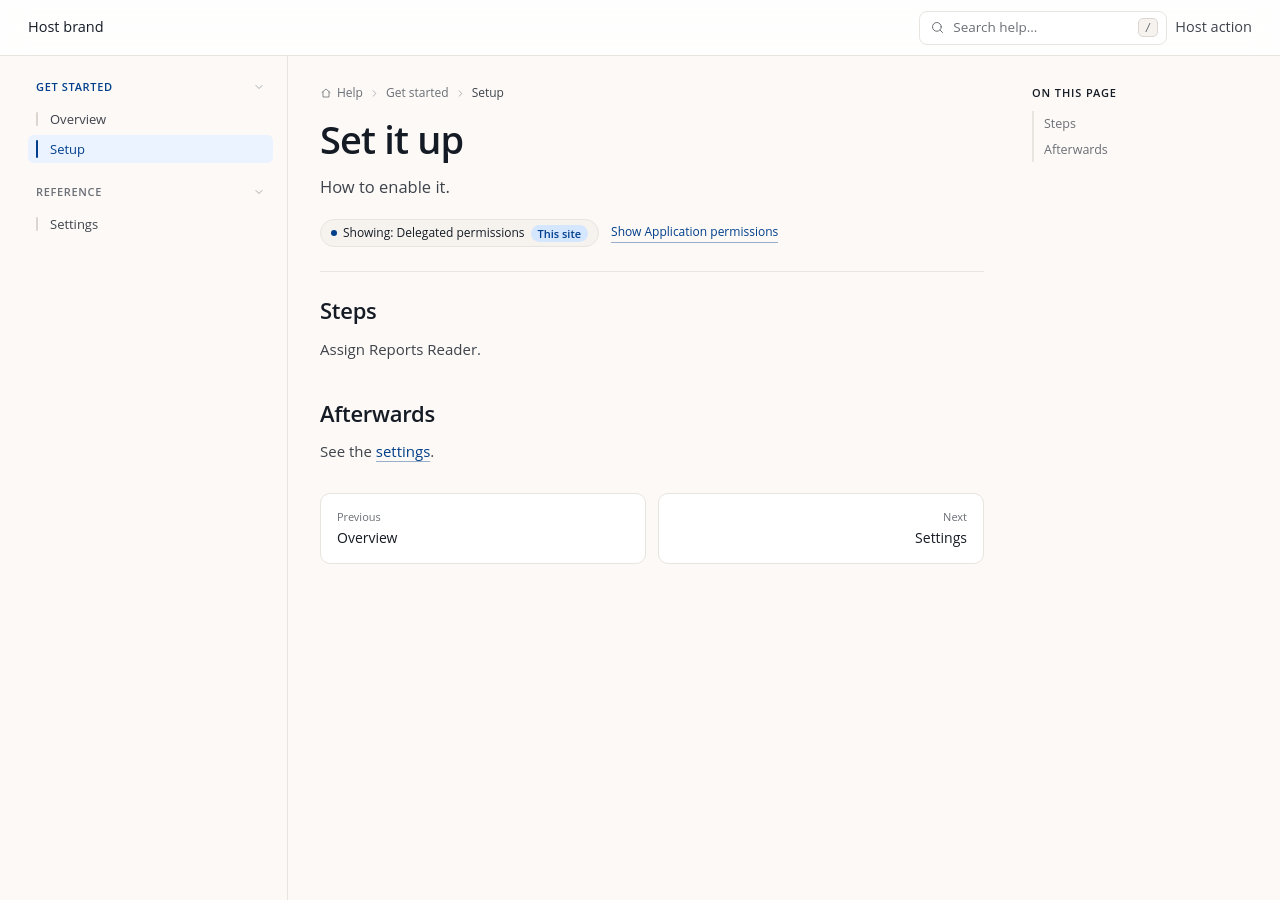
HelpCenter › switches the page to the other audience, fills its variables and keeps it while browsing
The image size is (1280, 900).
Click the link "Show Application permissions" at (695, 233), box left=611, top=223, right=778, bottom=243
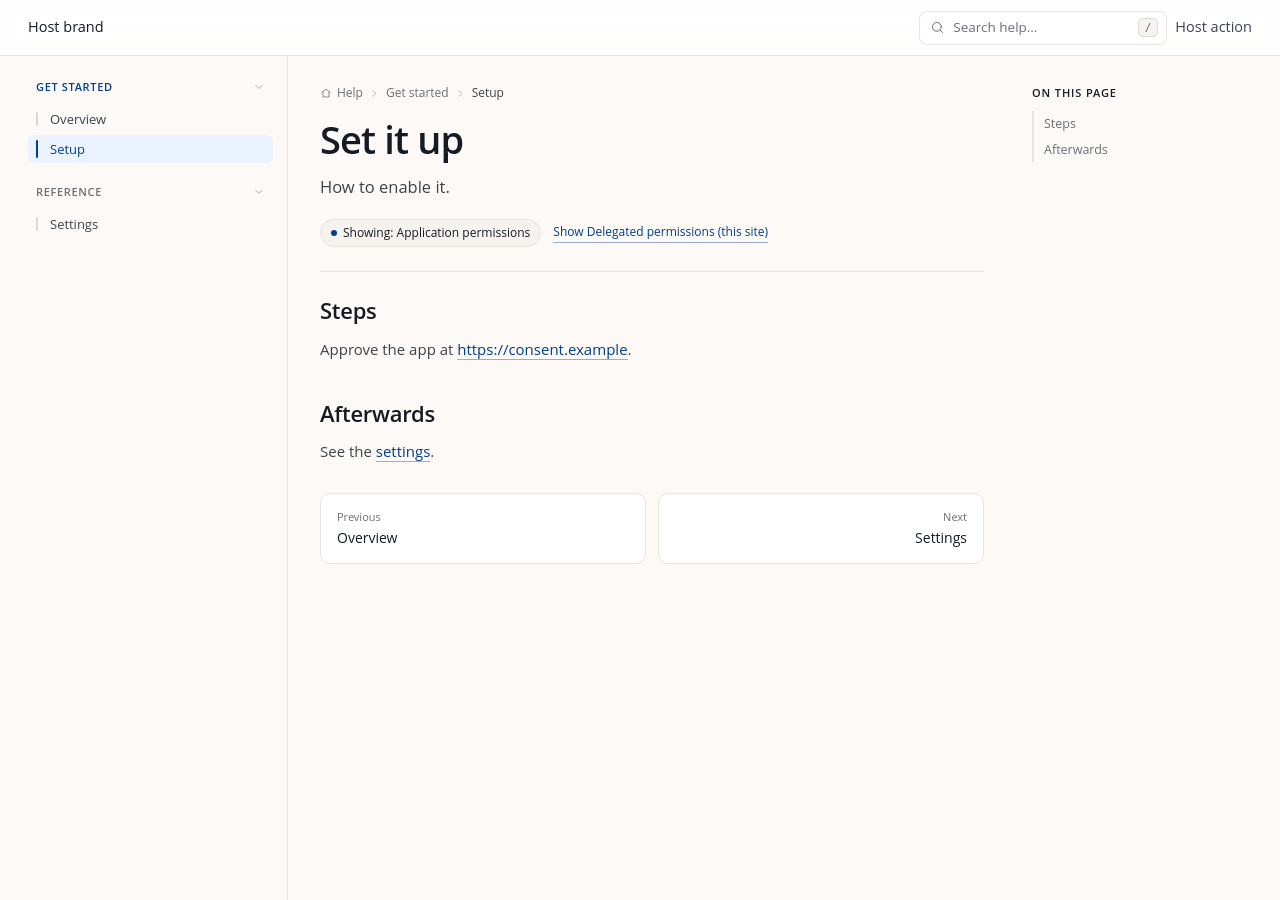
Result: the text "Approve the app at https://consent.example ." is shown at left=320, top=339, right=632, bottom=360
Result: the text "Assign Reports Reader." is gone
